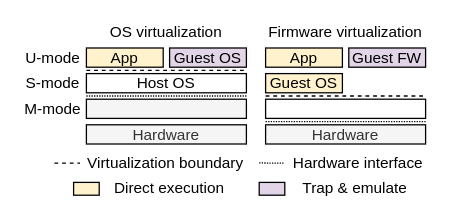
This 449x219 diagram has some shape labels left out. Here are the shapes that lost their labels. From the top down, the centre of each, then its label:
At point (165, 108): "Firmware".
At point (345, 108): "Host Firmware".
